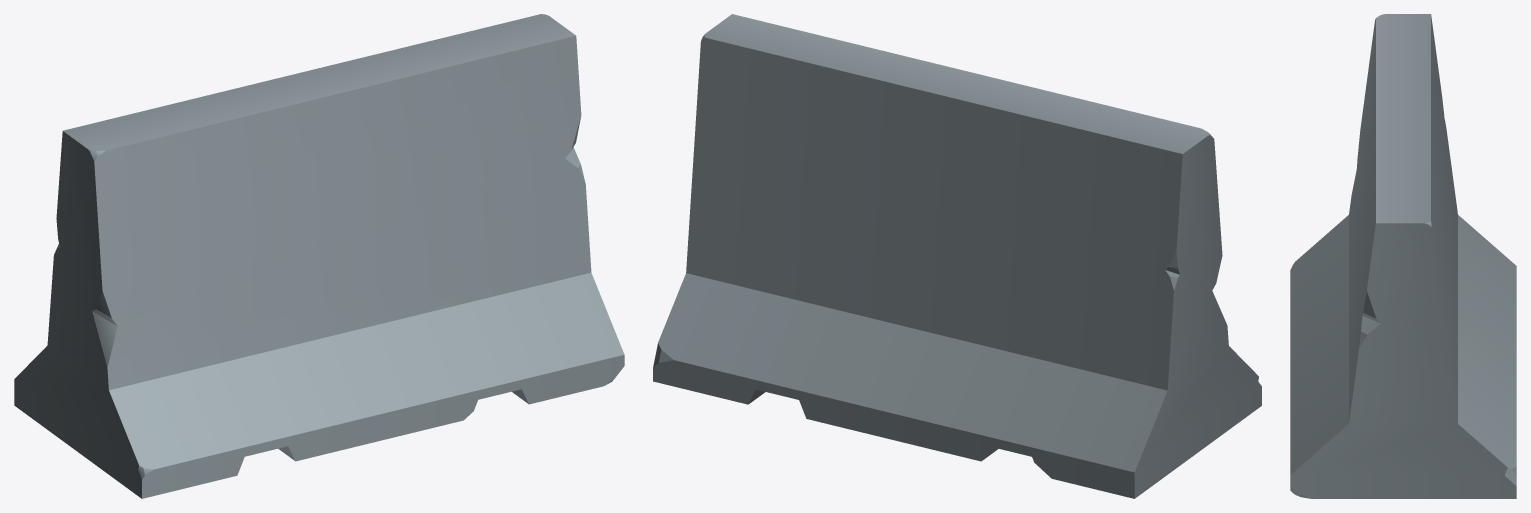
Rendered from VALLA PIEDRA.fbx.
3 renders of one model, left to right at view 1: azimuth 30°, elevation 25°; view 2: azimuth 150°, elevation 25°; view 3: azimuth 270°, elevation 25°, orthographic. The views are drawn at different scales.
Parts seen in each view (by area): view 1: muro; view 2: muro; view 3: muro.
Part boxes in pixels (<box>): muro: <box>14,14,624,498</box>; muro: <box>653,14,1261,498</box>; muro: <box>1290,14,1516,498</box>.
Bounding box in the file's own units: 262 × 120 × 161.
Materials: 1 (1 with a texture image).
